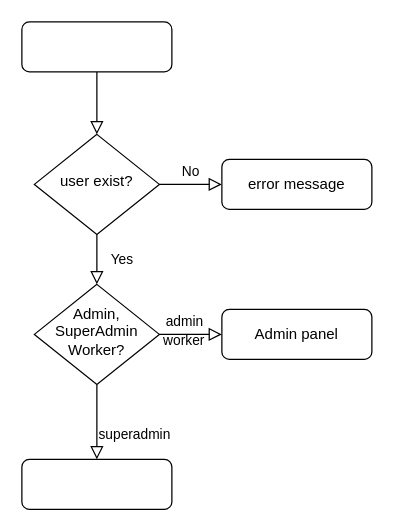
This 394x531 diagram has some shape labels left out. Here are the shapes that lost their labels. From the top down, the centre of each, then its label:
At point 96,46: "mobile phone login".
At point 96,483: "super admin panel".
